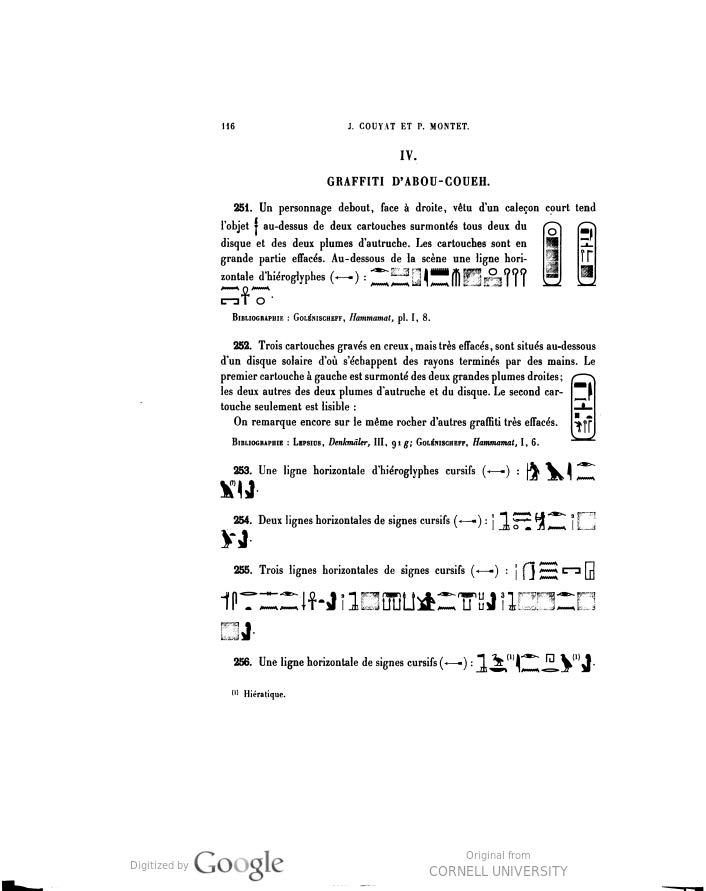circle: (568, 369, 599, 447), (538, 218, 569, 292), (574, 218, 602, 292)
